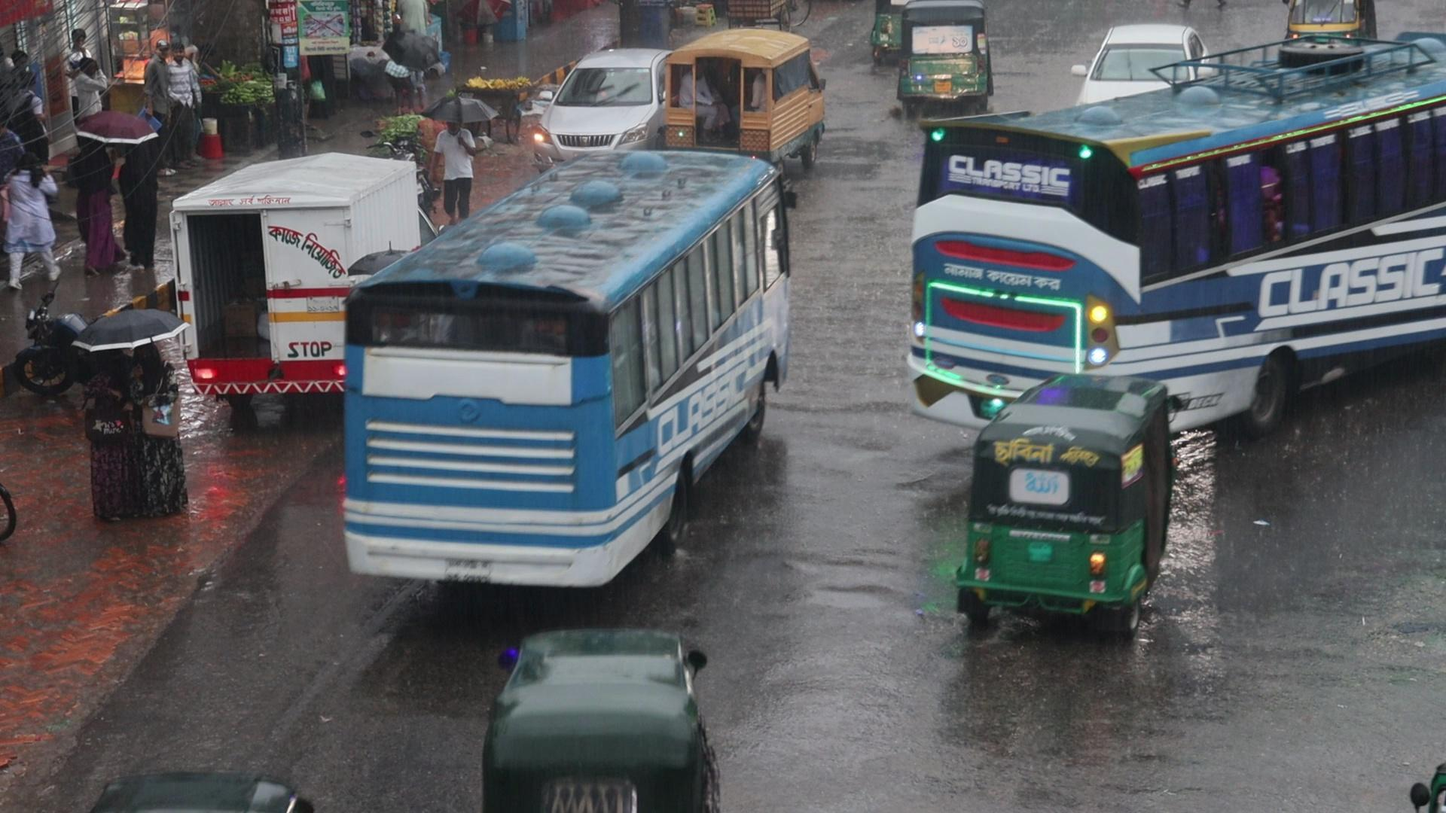Bus: (911, 25, 1446, 435), (337, 140, 798, 596)
Car: (529, 40, 682, 181), (1077, 20, 1205, 102)
Truck: (662, 20, 824, 196)
